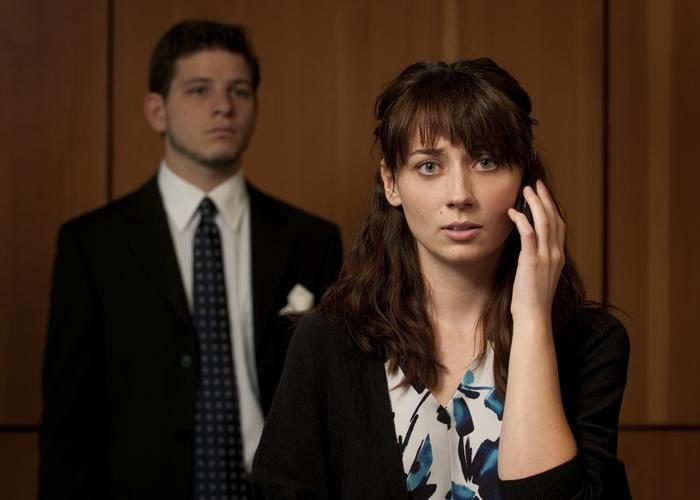person: (284, 64, 626, 500)
